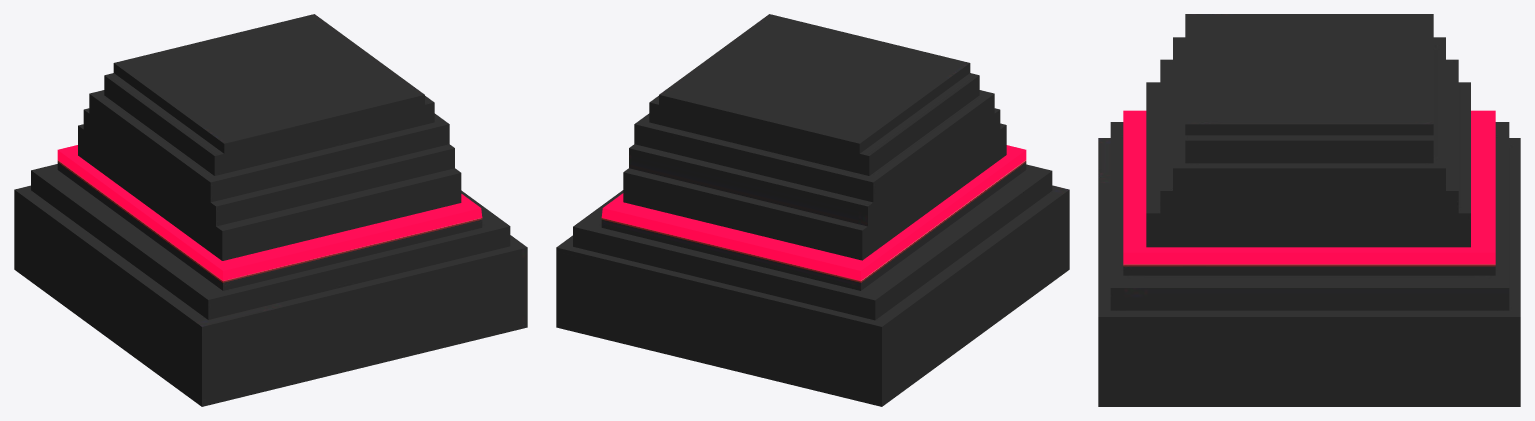
The model's file is beanie.glb.
3 renders of one model, left to right at view 1: azimuth 30°, elevation 25°; view 2: azimuth 150°, elevation 25°; view 3: azimuth 270°, elevation 25°, orthographic. The views are drawn at different scales.
Parts seen in each view (by area): view 1: beanie.001; view 2: beanie.001; view 3: beanie.001.
Part boxes in pixels (x1,y1,x2,y2): beanie.001: (14,14,527,406); beanie.001: (556,14,1069,406); beanie.001: (1098,14,1520,406).
Size of the model in its own units: 3.41 by 2.2 by 3.4.
Materials: 2 (1 with a texture image).
